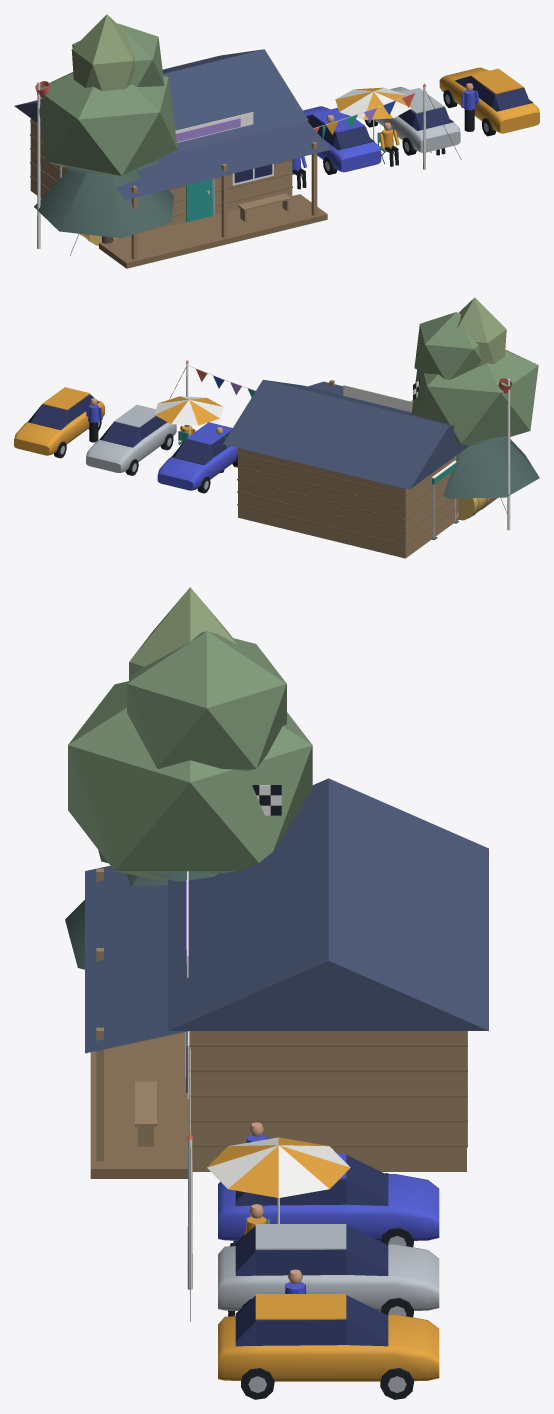
The model's file is meadow.glb.
3 views of the same model, one above another, from view 1: azimuth 30°, elevation 25°; view 2: azimuth 150°, elevation 25°; view 3: azimuth 270°, elevation 25° (orthographic). The views are drawn at different scales.
Visible parts, largest first — view 1: ClubHut, TreeRound, TreePine, TreeBirch, Spectators, Bunting; view 2: ClubHut, TreeRound, TreePine, Spectators, TreeBirch, HayBale, Bunting, PilotTent; view 3: ClubHut, TreeRound, Spectators, TreeBirch, TreePine, Bunting.
Boxes of the visible parts, <box> form: ClubHut: <box>14,49,539,268</box>; TreeRound: <box>37,23,177,243</box>; TreePine: <box>34,158,174,243</box>; TreeBirch: <box>71,14,135,91</box>; Spectators: <box>292,83,479,189</box>; Bunting: <box>70,83,461,255</box>; ClubHut: <box>14,378,512,558</box>; TreeRound: <box>411,312,538,445</box>; TreePine: <box>443,436,539,498</box>; Spectators: <box>86,396,228,473</box>; TreeBirch: <box>456,297,506,366</box>; HayBale: <box>458,498,490,520</box>; Bunting: <box>169,360,507,513</box>; PilotTent: <box>431,460,456,540</box>; ClubHut: <box>85,778,488,1399</box>; TreeRound: <box>68,631,312,880</box>; Spectators: <box>207,1122,350,1316</box>; TreeBirch: <box>129,587,236,680</box>; TreePine: <box>65,850,217,969</box>; Bunting: <box>187,1047,193,1321</box>.
Bounding box in the file's own units: 19.09 × 8.41 × 7.67.
